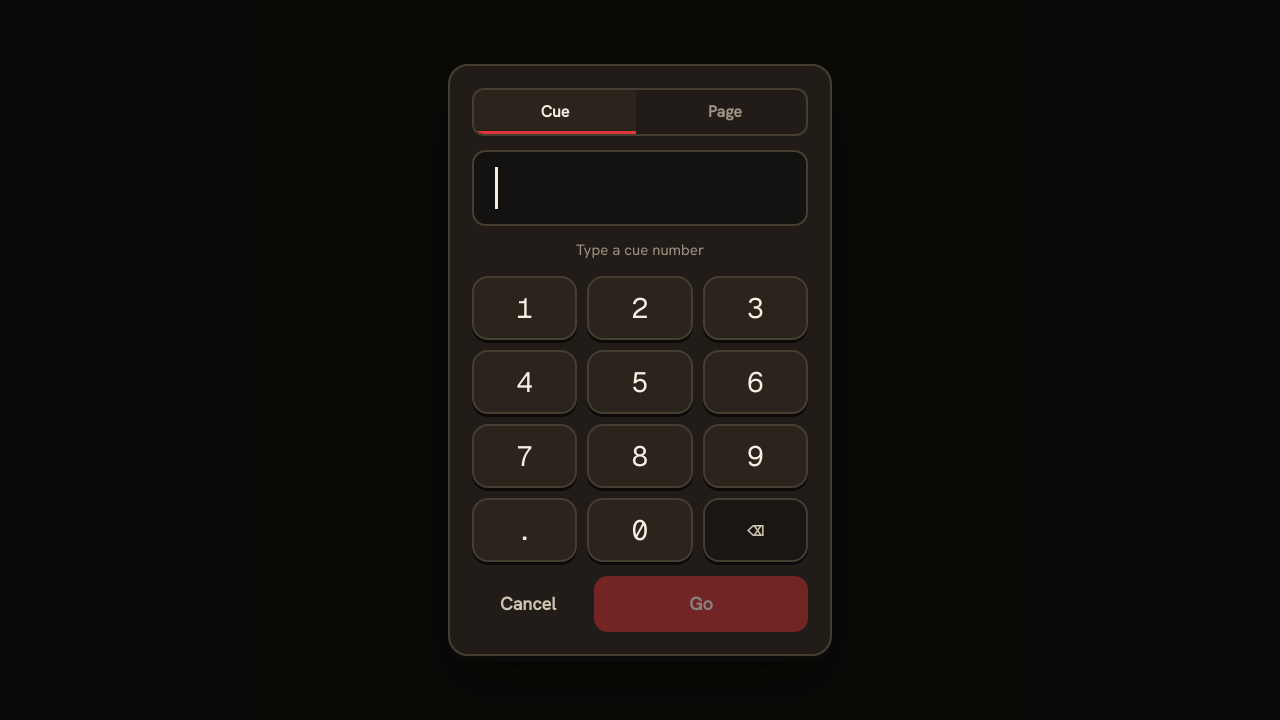
it: GoToKeypad › typing is announced once: the match line is live, the readout is not
The width and height of the screenshot is (1280, 720).
Step 1. Click the button "2" → [640, 308], box [587,276,693,340]
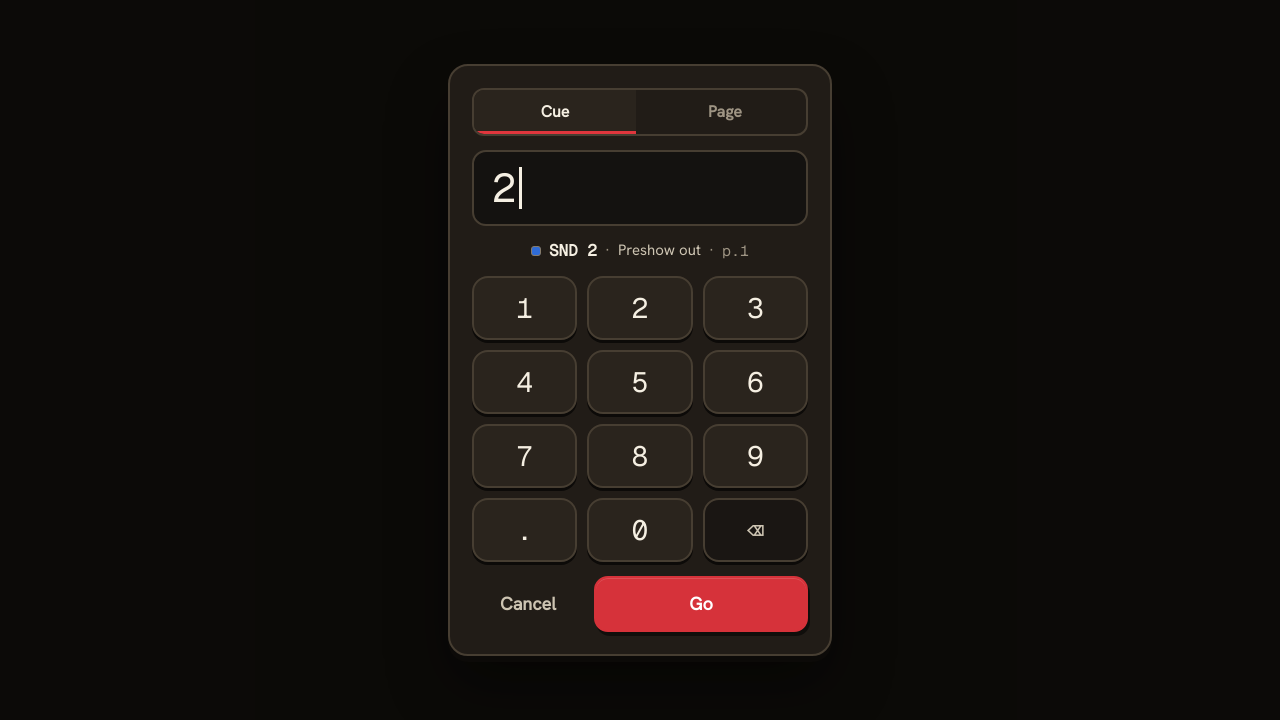
Check: the element showing "SND 2 · Preshow out · p.1" is shown, box [531,240,749,261]
